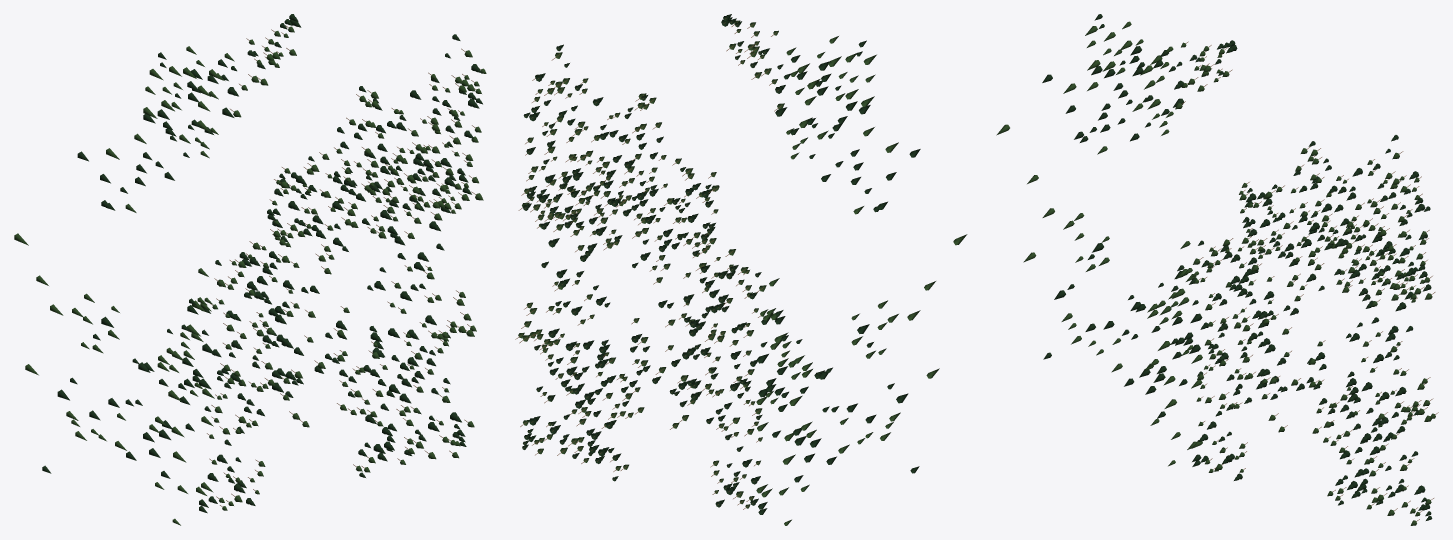
File: forest_2.obj
3 views of the same model, side by side, from view 1: azimuth 30°, elevation 25°; view 2: azimuth 150°, elevation 25°; view 3: azimuth 330°, elevation 25° (orthographic). The views are drawn at different scales.
Bounding box in the file's own units: 534 × 551 × 86.77.
